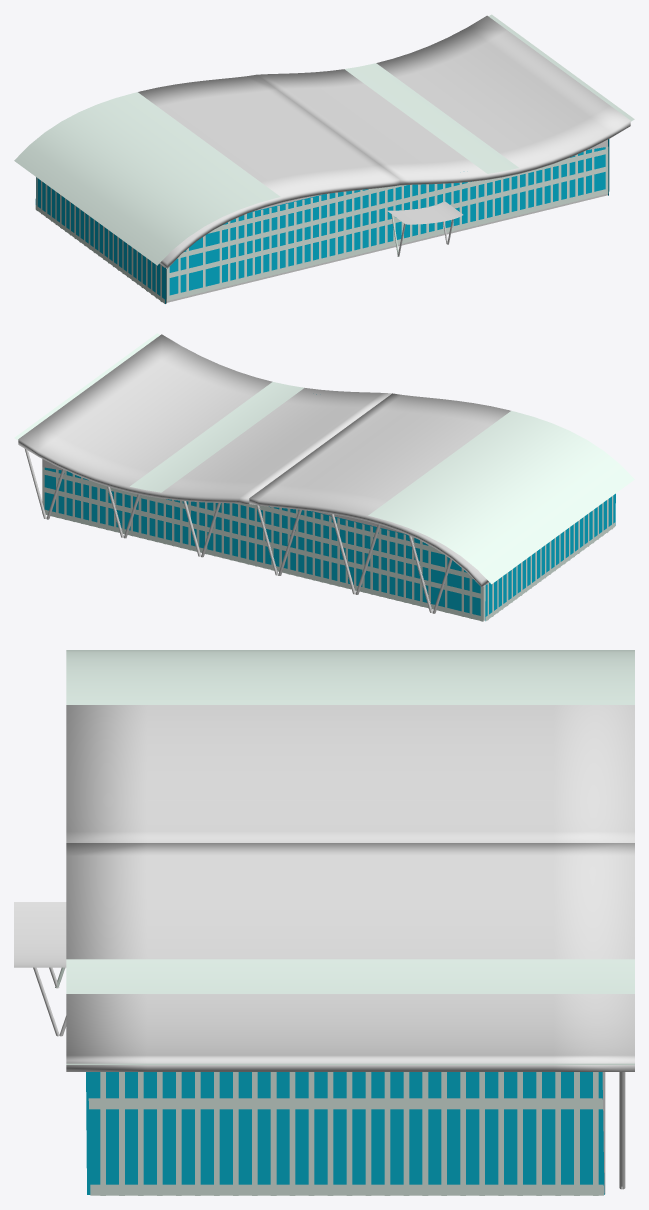
File: stadium.glb
3 renders of one model, top to bottom at view 1: azimuth 30°, elevation 25°; view 2: azimuth 150°, elevation 25°; view 3: azimuth 270°, elevation 25°, orthographic. The views are drawn at different scales.
Visible parts, largest first — view 1: SurfCurve.001, SurfCurve, Plane.004, Plane.005, Plane.002, SurfCurve.002; view 2: SurfCurve.001, SurfCurve, Plane.003, Plane.005; view 3: SurfCurve.001, Plane.006, SurfCurve, SurfCurve.002, Cylinder.
Boxes of the visible parts, box(x1,y1,x2,y2) form: SurfCurve.001: box(138, 15, 630, 268); SurfCurve: box(14, 14, 634, 265); Plane.004: box(167, 146, 608, 301); Plane.005: box(35, 177, 166, 303); Plane.002: box(167, 139, 607, 302); SurfCurve.002: box(388, 201, 463, 224); SurfCurve.001: box(18, 334, 510, 587); SurfCurve: box(14, 333, 634, 584); Plane.003: box(42, 467, 483, 621); Plane.005: box(485, 493, 615, 621); SurfCurve.001: box(66, 705, 634, 1071); Plane.006: box(86, 1072, 604, 1195); SurfCurve: box(66, 650, 634, 1064); SurfCurve.002: box(14, 902, 66, 967); Cylinder: box(619, 1072, 625, 1189).
Size of the model in its own units: 173 by 29.86 by 98.28.
